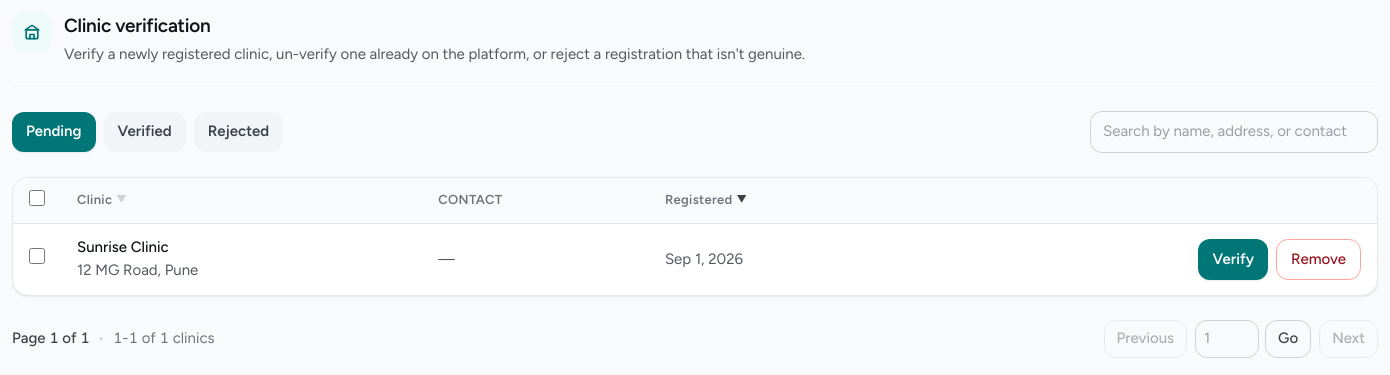
Test: PendingClinicsList › switches to the Verified tab and requests verified=true
Expected: the text "Sunrise Clinic" is shown, [77,238,169,256]
Step 1. Click the tab "Verified" → click(145, 132), box [104,112,186,152]
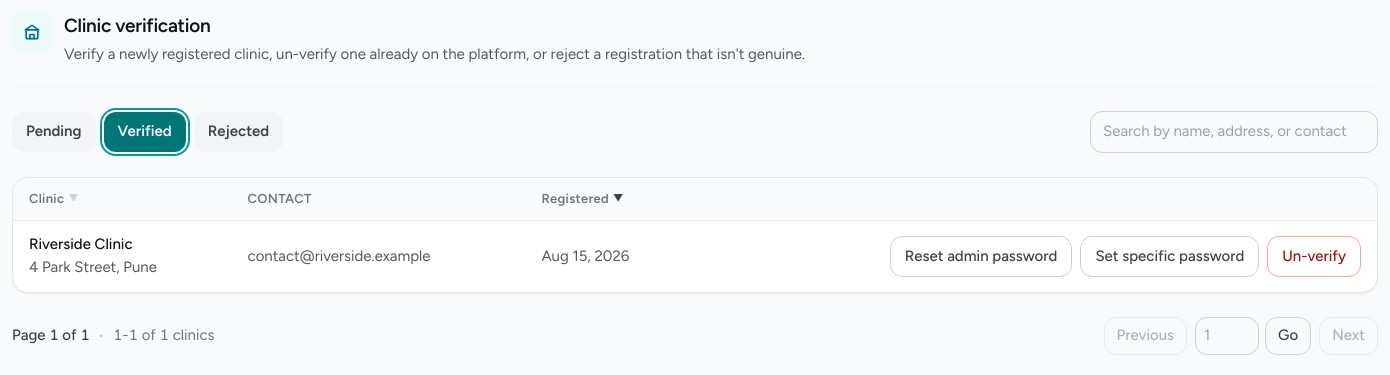
Expected: the text "Riverside Clinic" is shown, [29,235,132,253]
